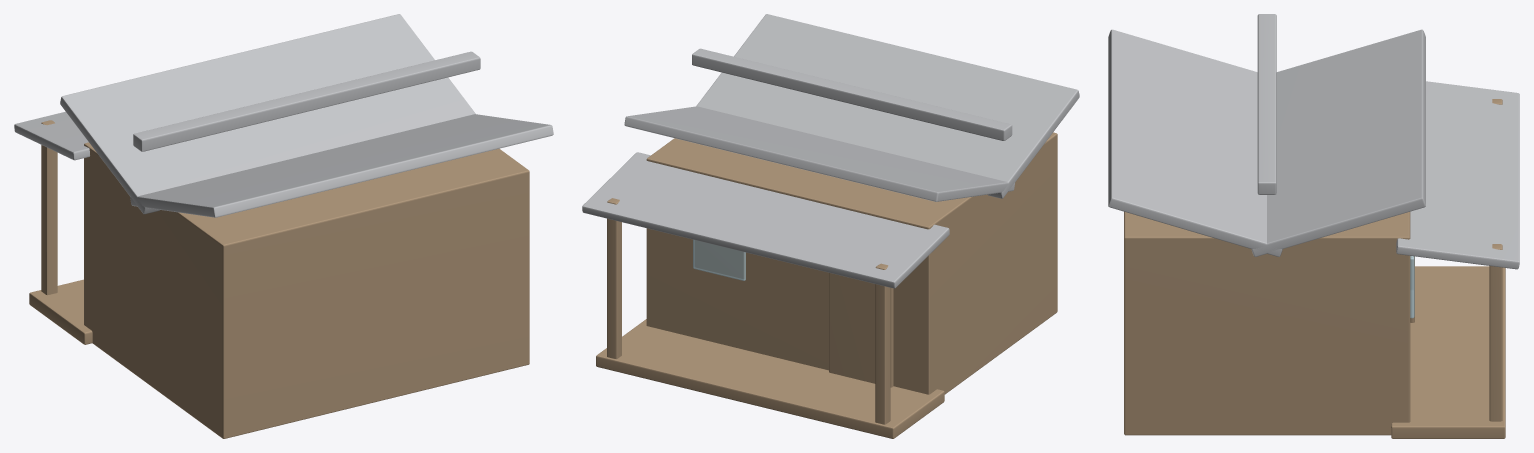
Rendered from wooden_shack.glb.
3 renders of one model, left to right at view 1: azimuth 30°, elevation 25°; view 2: azimuth 150°, elevation 25°; view 3: azimuth 270°, elevation 25°, orthographic. The views are drawn at different scales.
Parts seen in each view (by area): view 1: wooden_shack; view 2: wooden_shack; view 3: wooden_shack.
Boxes of the visible parts, x1,y1,x2,y2 form: wooden_shack: (14, 14, 553, 438); wooden_shack: (582, 14, 1079, 438); wooden_shack: (1108, 14, 1519, 438).
Bounding box in the file's own units: 4.2 × 3.03 × 4.31.
